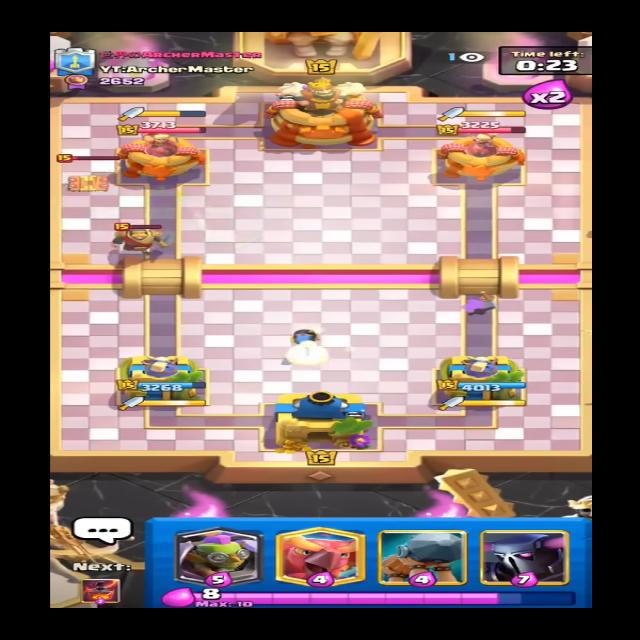knight: (111, 222, 172, 252)
tesla-closed: (52, 150, 126, 200)
